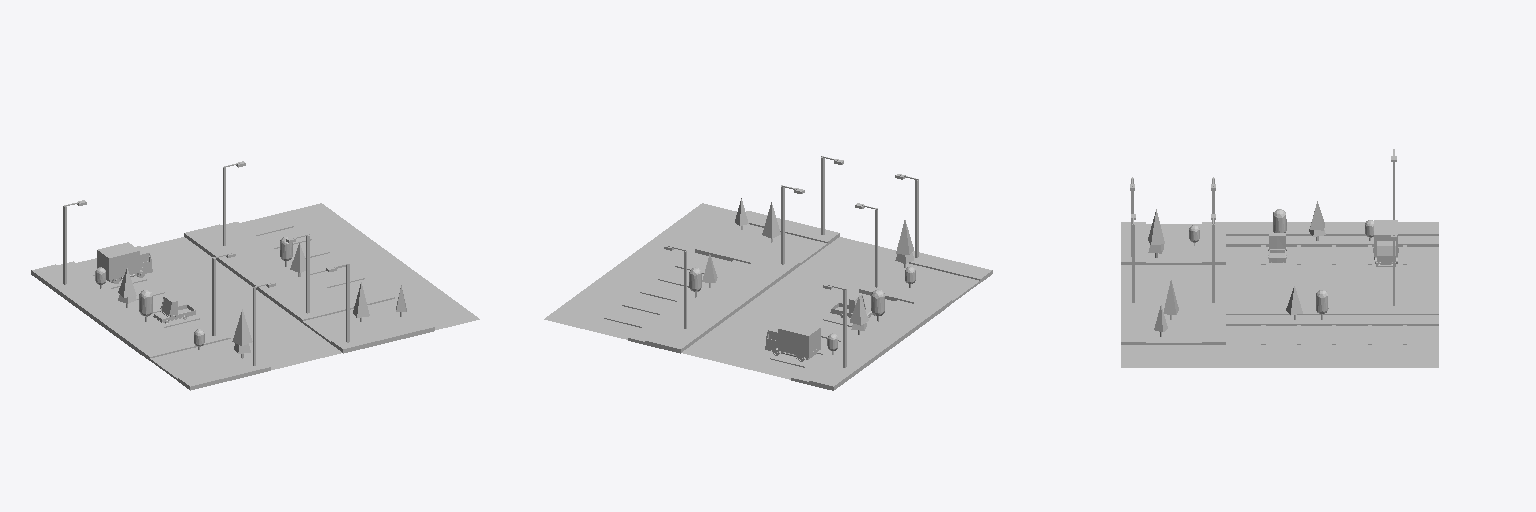
File: ParkingLot.obj
The picture shows the model from 3 angles: view 1: azimuth 30°, elevation 25°; view 2: azimuth 150°, elevation 25°; view 3: azimuth 270°, elevation 25°; orthographic projection.
Parts seen in each view (by area): view 1: Plane_Plane.008, Cube.905_Cube.3610, Cube.030_Cube.042, Cube.916_Cube.3629, CarColored.000_Cube.3470; view 2: Plane_Plane.008, Cube.905_Cube.3610, Cube.030_Cube.042, Cube.916_Cube.3629; view 3: Plane_Plane.008, Cube.905_Cube.3610, Cube.030_Cube.042, Cube.916_Cube.3629, CarColored.000_Cube.3470.
Part boxes in pixels (x1,y1,x2,y2): Plane_Plane.008: (77,203,479,369); Cube.905_Cube.3610: (31,222,434,354); Cube.030_Cube.042: (138,328,270,390); Cube.916_Cube.3629: (97,242,152,283); CarColored.000_Cube.3470: (153,295,195,323); Plane_Plane.008: (544,203,897,379); Cube.905_Cube.3610: (628,211,944,390); Cube.030_Cube.042: (859,251,992,311); Cube.916_Cube.3629: (765,320,820,361); Plane_Plane.008: (1121,247,1438,367); Cube.905_Cube.3610: (1121,222,1438,344); Cube.030_Cube.042: (1121,222,1225,264); Cube.916_Cube.3629: (1373,220,1398,266); CarColored.000_Cube.3470: (1267,233,1287,262).
Bounding box in the file's own units: 4.1 × 1.12 × 3.89.